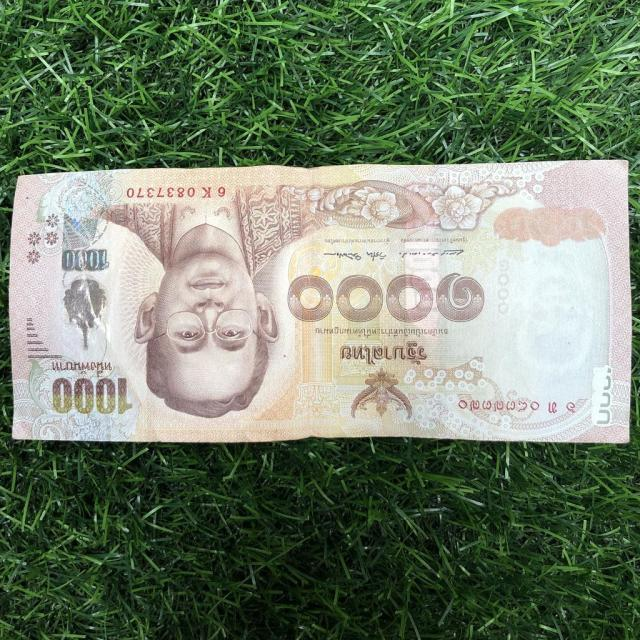THAI1000: (7, 159, 632, 448)
